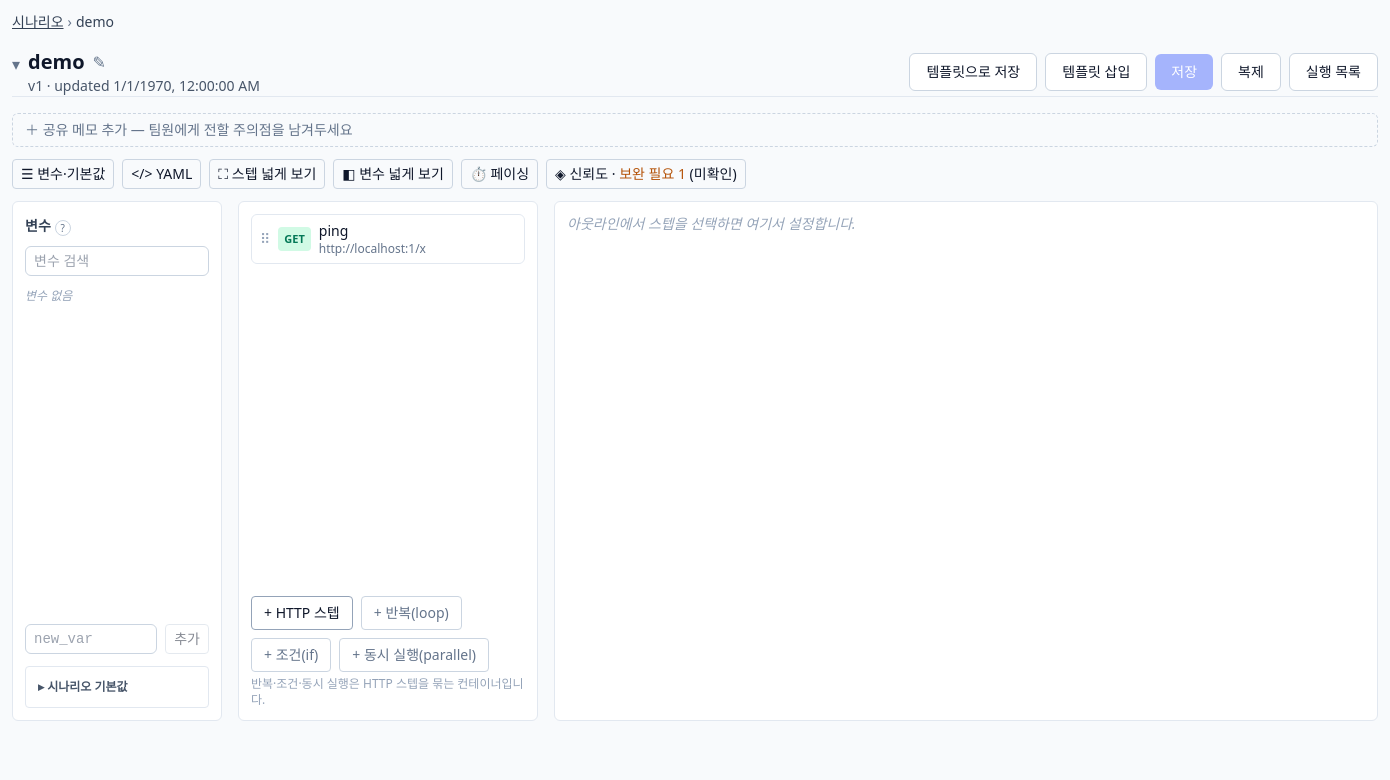
ScenarioEditPage 이름 라이브 표시 + 인라인 편집 (R7/R8) › 연필 → 입력 → Enter 커밋: h2 갱신 + dirty(저장 버튼 enabled)
The image size is (1390, 780).
Expected: the heading "demo" is shown, [28,48,84,76]
Expected: the button "저장" is disabled, [1155,54,1213,90]
Click the button named "시나리오 이름 편집" at (99, 62), box [92,50,106,74]
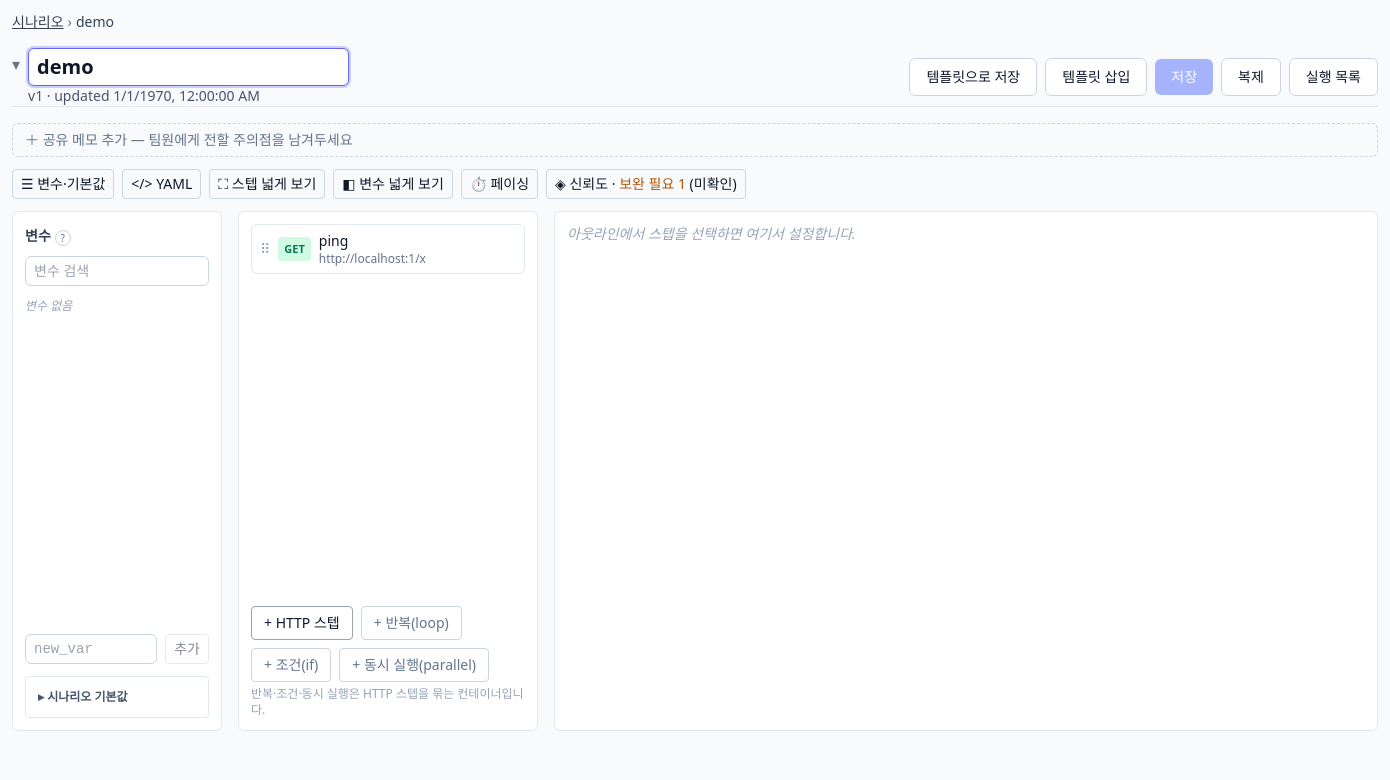
Replace the text in the field named "시나리오 이름" with "새이름" at (188, 67), box [28,48,349,86]
Then press Enter
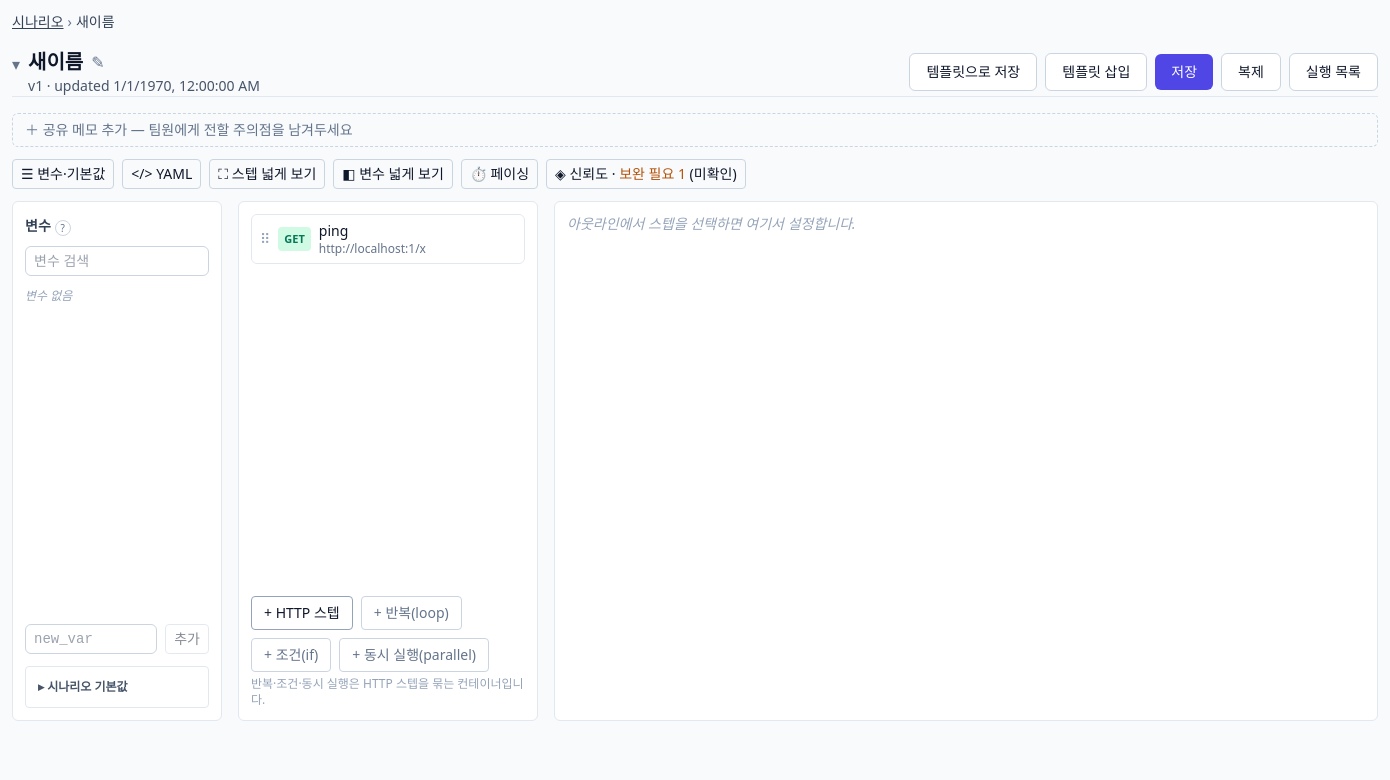
Result: the heading "새이름" is shown at [28,48,83,76]
Result: the button "저장" is enabled at [1155,54,1213,90]
